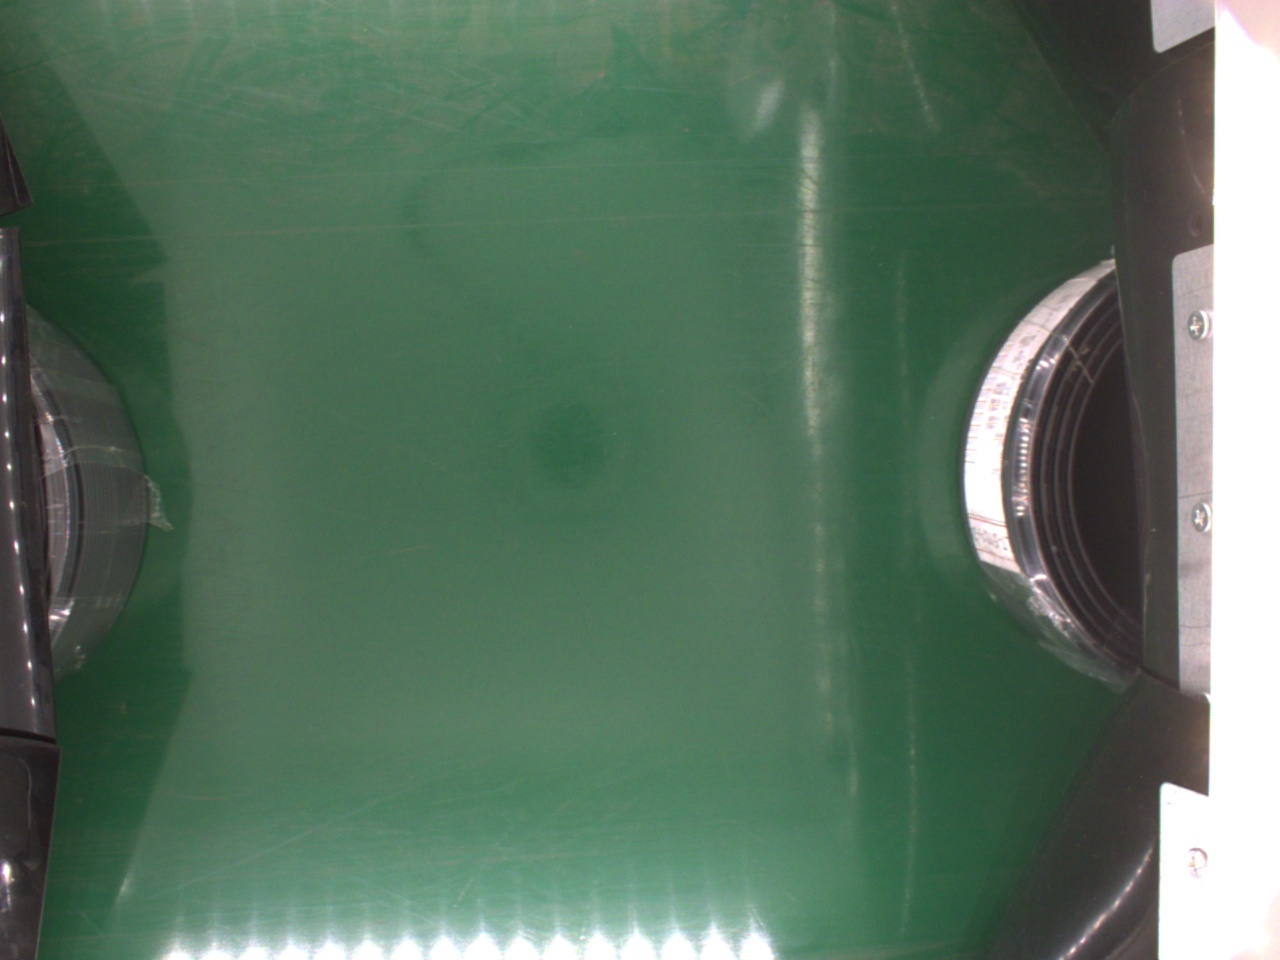black: (965, 252, 1141, 689), (18, 303, 157, 683)
